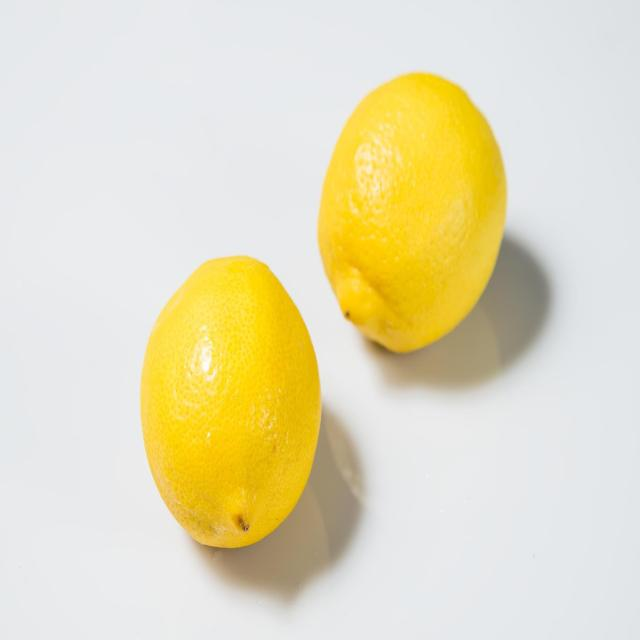lemon: (133, 247, 327, 560), (311, 61, 510, 361)
